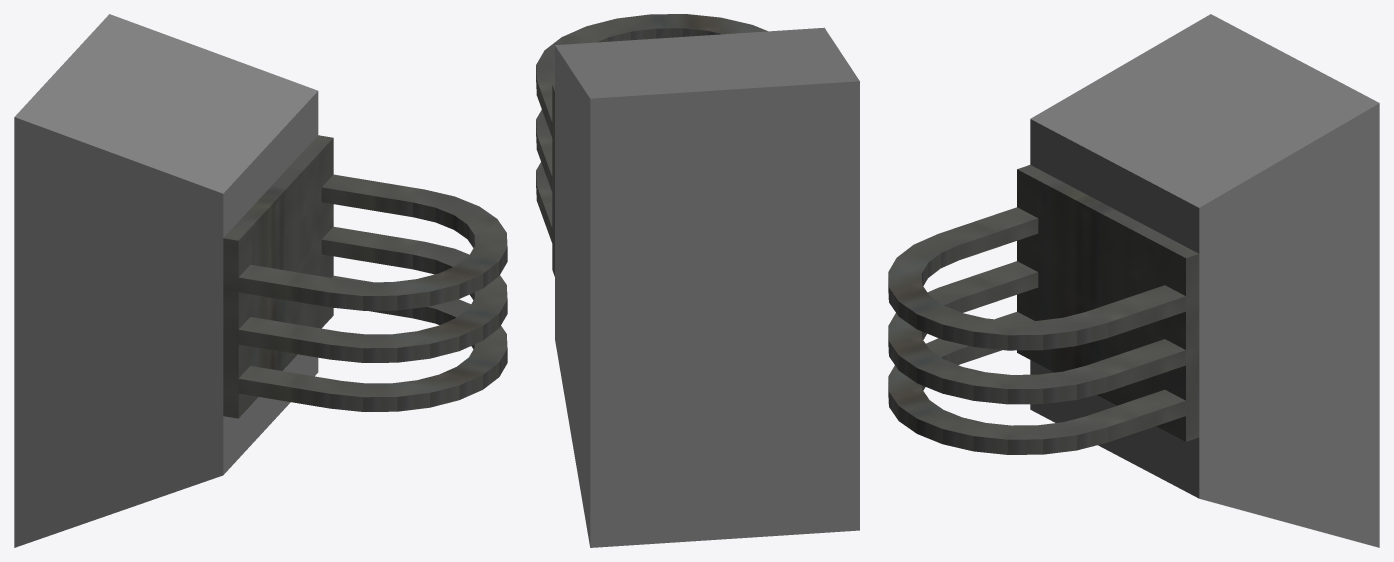
Rendered from caixa-de-som.glb.
3 views of the same model, side by side, from view 1: azimuth 30°, elevation 25°; view 2: azimuth 150°, elevation 25°; view 3: azimuth 270°, elevation 25° (orthographic). The views are drawn at different scales.
Parts seen in each view (by area): view 1: Componente_51_1, Componente_1_1, Al_a1, Al_a3, Al_a2; view 2: Componente_51_1, Al_a1, Al_a3, Al_a2, Componente_1_1; view 3: Componente_51_1, Componente_1_1, Al_a1, Al_a3, Al_a2.
Boxes of the visible parts, x1,y1,x2,y2 form: Componente_51_1: (14, 14, 318, 547); Componente_1_1: (223, 135, 333, 418); Al_a1: (238, 174, 507, 310); Al_a3: (238, 226, 507, 362); Al_a2: (238, 275, 507, 411); Componente_51_1: (555, 27, 859, 547); Al_a1: (536, 14, 767, 137); Al_a3: (536, 109, 552, 191); Al_a2: (536, 162, 552, 242); Componente_1_1: (552, 84, 554, 276); Componente_51_1: (1030, 14, 1379, 547); Componente_1_1: (1017, 165, 1199, 441); Al_a1: (888, 207, 1185, 350); Al_a3: (888, 261, 1185, 404); Al_a2: (888, 312, 1185, 454).
Size of the model in its own units: 0.2714 by 0.2907 by 0.2911.
2 materials, 1 textured.
